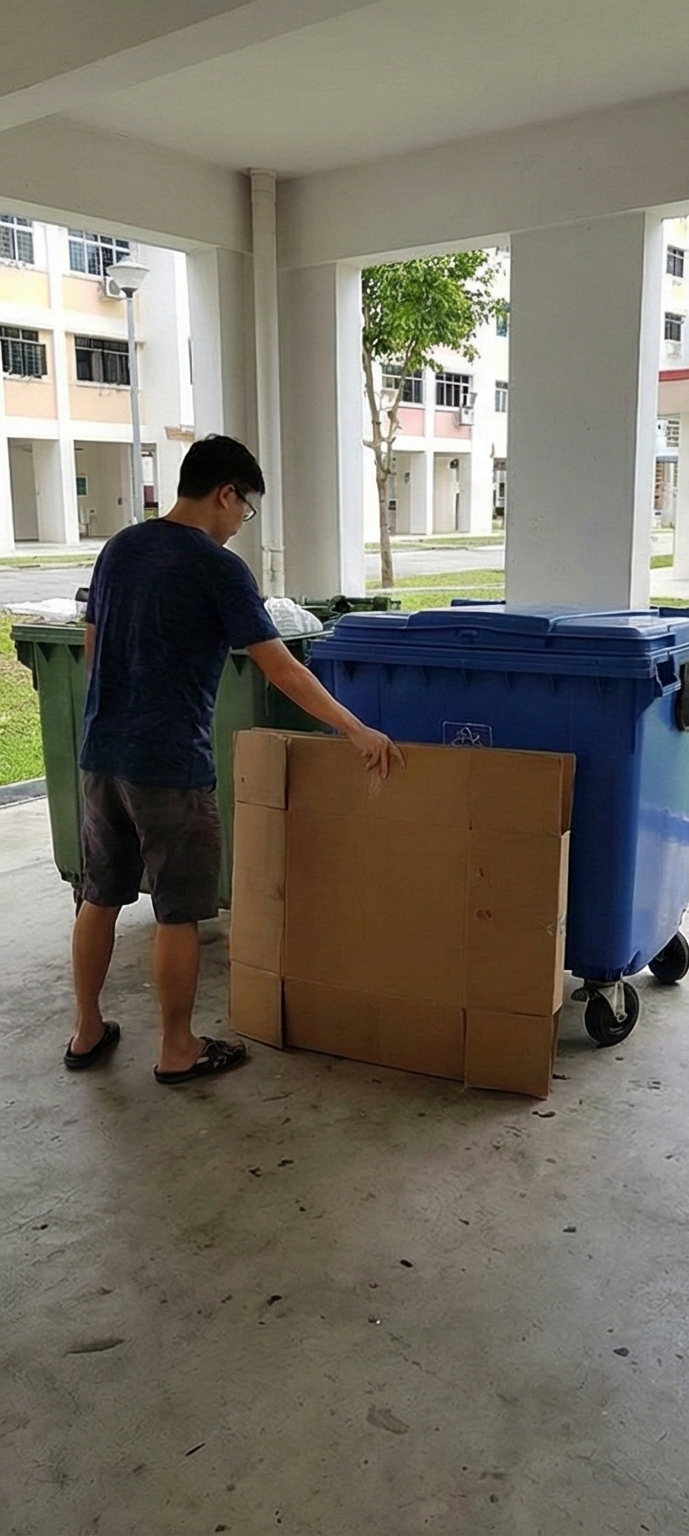bin_empty: (313, 603, 688, 1044), (212, 651, 320, 908), (12, 618, 84, 906)
bulk_waste: (229, 731, 573, 1097)
